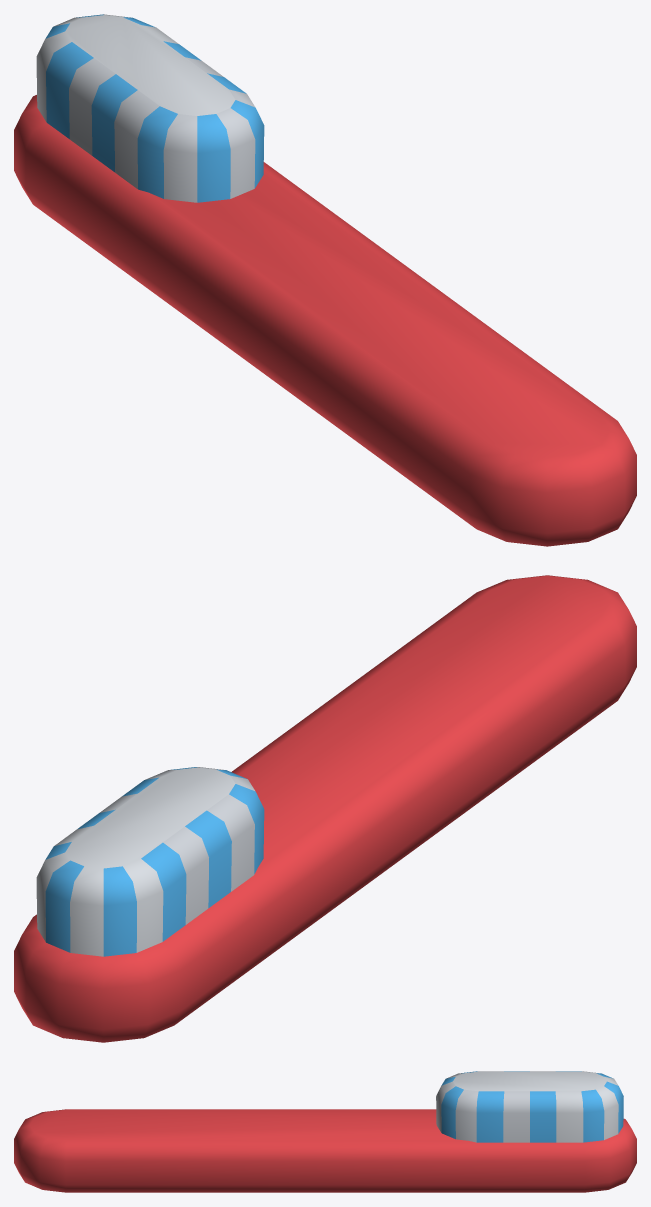
Rendered from escova_dentes_pacote.glb.
The picture shows the model from 3 angles, top to bottom: view 1: azimuth 30°, elevation 25°; view 2: azimuth 150°, elevation 25°; view 3: azimuth 270°, elevation 25°; orthographic projection. The views are drawn at different scales.
Visible parts, largest first — view 1: escova_dentes_pacote; view 2: escova_dentes_pacote; view 3: escova_dentes_pacote.
Part boxes in pixels (x1,y1,x2,y2): escova_dentes_pacote: [14, 14, 636, 546]; escova_dentes_pacote: [14, 575, 636, 1042]; escova_dentes_pacote: [14, 1071, 636, 1192].
Bounding box in the file's own units: 0.0305 × 0.0307 × 0.182.
Materials: 1 (1 with a texture image).
